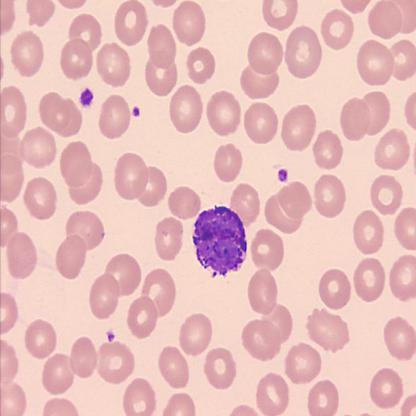Basophil: (190, 203, 249, 280)
